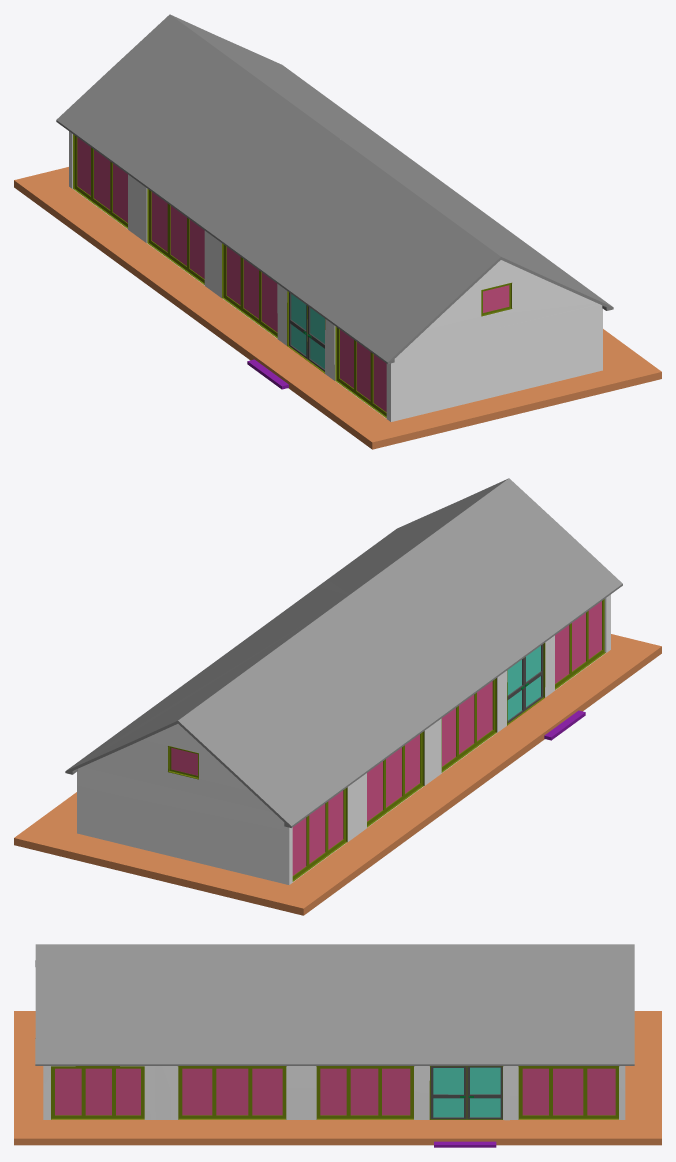
File: house.obj
3 renders of one model, top to bottom at view 1: azimuth 30°, elevation 25°; view 2: azimuth 150°, elevation 25°; view 3: azimuth 270°, elevation 25°, orthographic. The views are drawn at different scales.
Visible parts, largest first — view 1: Object03, Object07, Foundation, Door_Glass04, Object01, Door_Glass, Door_Glass01; view 2: Object03, Object07, Foundation, Door_Glass04, Object01, Door_Glass, Door_Glass01; view 3: Object03, Foundation, Door_Glass04, Object01, Object07, Door_Glass02, Door_Glass03, Door06, Door03, Box03.
Part boxes in pixels (x1=…): Object03: x1=56, y1=14, x2=613, y2=364; Object07: x1=69, y1=131, x2=602, y2=421; Foundation: x1=14, y1=167, x2=661, y2=449; Door_Glass04: x1=77, y1=137, x2=509, y2=412; Object01: x1=73, y1=134, x2=512, y2=417; Door_Glass: x1=291, y1=294, x2=306, y2=355; Door_Glass01: x1=310, y1=308, x2=324, y2=368; Object03: x1=65, y1=478, x2=622, y2=827; Object07: x1=77, y1=594, x2=610, y2=884; Foundation: x1=14, y1=634, x2=661, y2=915; Door_Glass04: x1=171, y1=601, x2=601, y2=875; Object01: x1=168, y1=599, x2=605, y2=881; Door_Glass: x1=507, y1=660, x2=521, y2=720; Door_Glass01: x1=526, y1=646, x2=540, y2=706; Object03: x1=35, y1=944, x2=634, y2=1065; Foundation: x1=14, y1=1011, x2=661, y2=1145; Door_Glass04: x1=55, y1=1068, x2=615, y2=1115; Object01: x1=51, y1=1066, x2=619, y2=1119; Object07: x1=43, y1=1066, x2=625, y2=1120; Door_Glass02: x1=470, y1=1067, x2=500, y2=1117; Door_Glass03: x1=433, y1=1068, x2=463, y2=1117; Door06: x1=430, y1=1066, x2=466, y2=1119; Door03: x1=467, y1=1066, x2=502, y2=1119; Box03: x1=434, y1=1141, x2=496, y2=1147.
Bounding box in the file's own units: 5.43 × 2.56 × 11.08.
